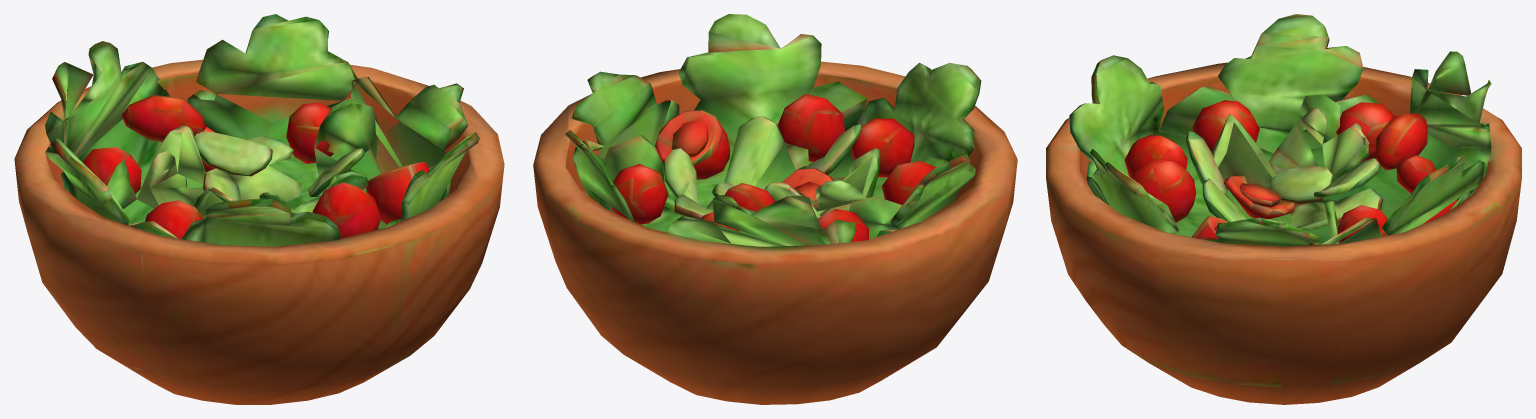
The model's file is item-herbSalad.glb.
3 renders of one model, left to right at view 1: azimuth 30°, elevation 25°; view 2: azimuth 150°, elevation 25°; view 3: azimuth 270°, elevation 25°, orthographic.
Size of the model in its own units: 0.9609 by 0.5503 by 0.9497.
1 material, 1 textured.
